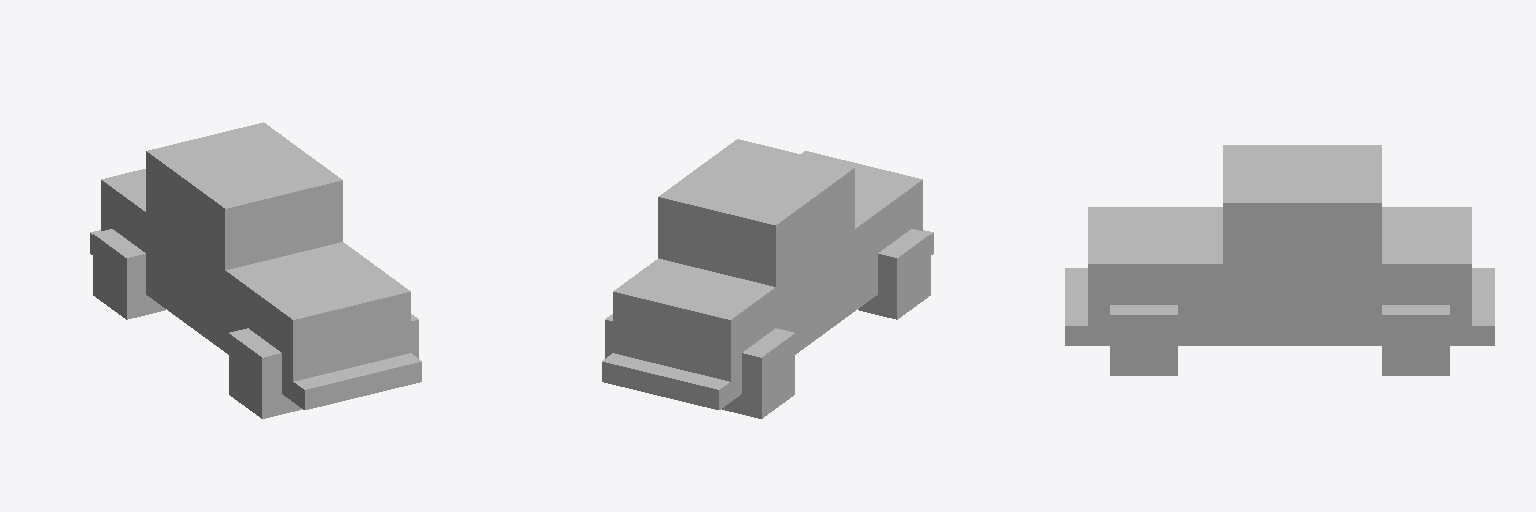
The model's file is Car Yellow.obj.
3 views of the same model, side by side, from view 1: azimuth 30°, elevation 25°; view 2: azimuth 150°, elevation 25°; view 3: azimuth 270°, elevation 25° (orthographic).
Parts seen in each view (by area): view 1: Car Yellow; view 2: Car Yellow; view 3: Car Yellow.
Part boxes in pixels (x1,y1,x2,y2): Car Yellow: (90, 122, 421, 418); Car Yellow: (602, 139, 933, 418); Car Yellow: (1065, 145, 1494, 375).
Bounding box in the file's own units: 8 × 8 × 19.